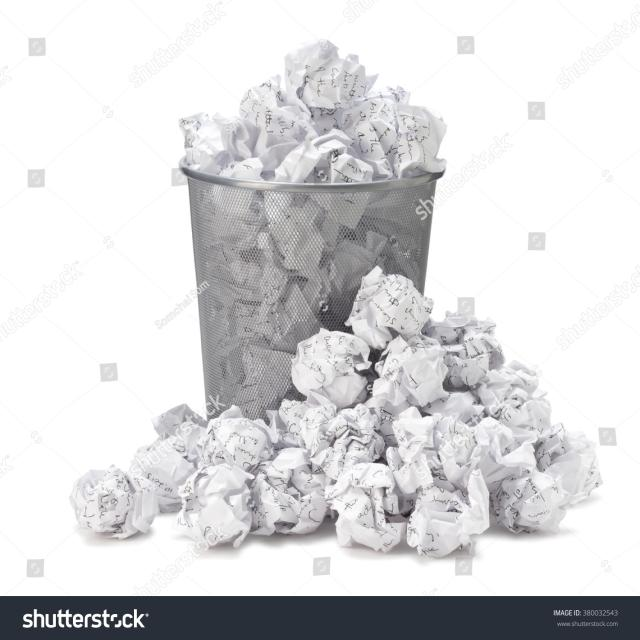PaperCardboard: (78, 273, 600, 559), (184, 41, 437, 184)
